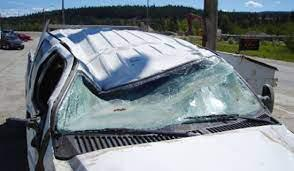Front-Windscreen-Damage: (55, 54, 255, 135)
roof-dent: (44, 14, 212, 87)
